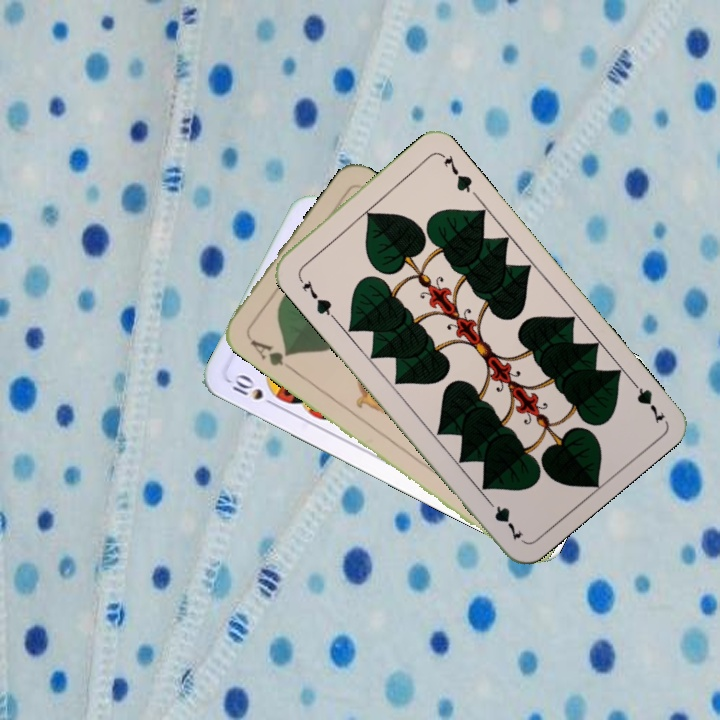G7: (624, 373, 668, 426), (294, 271, 337, 320)
GA: (245, 332, 296, 373)
S10: (227, 370, 280, 410)
